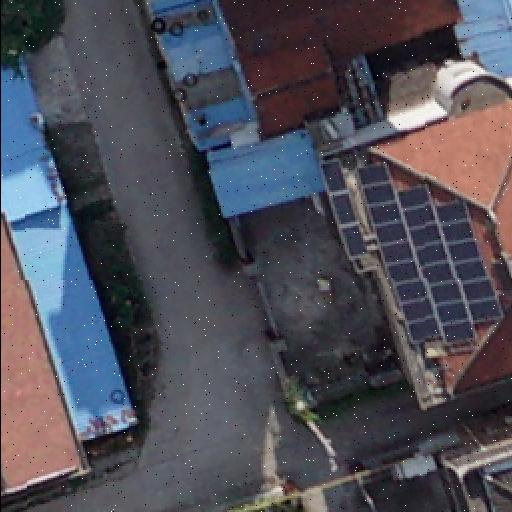solar-panel: (317, 142, 501, 355)
